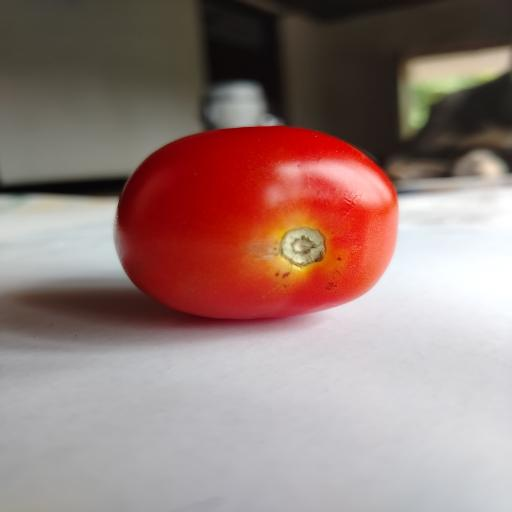ripe: (115, 126, 398, 319)
